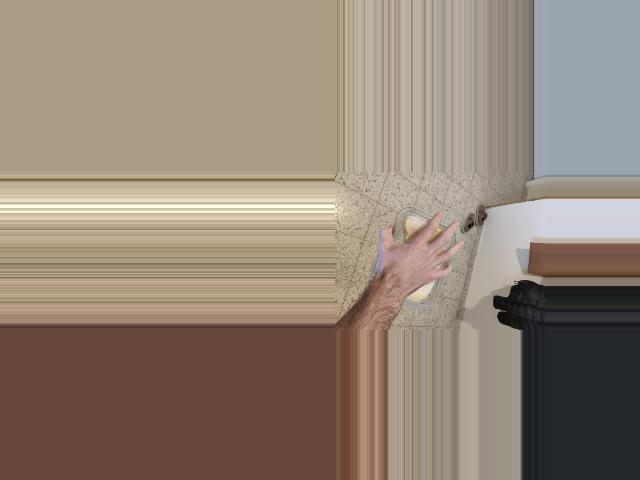cheese: (369, 210, 461, 304)
